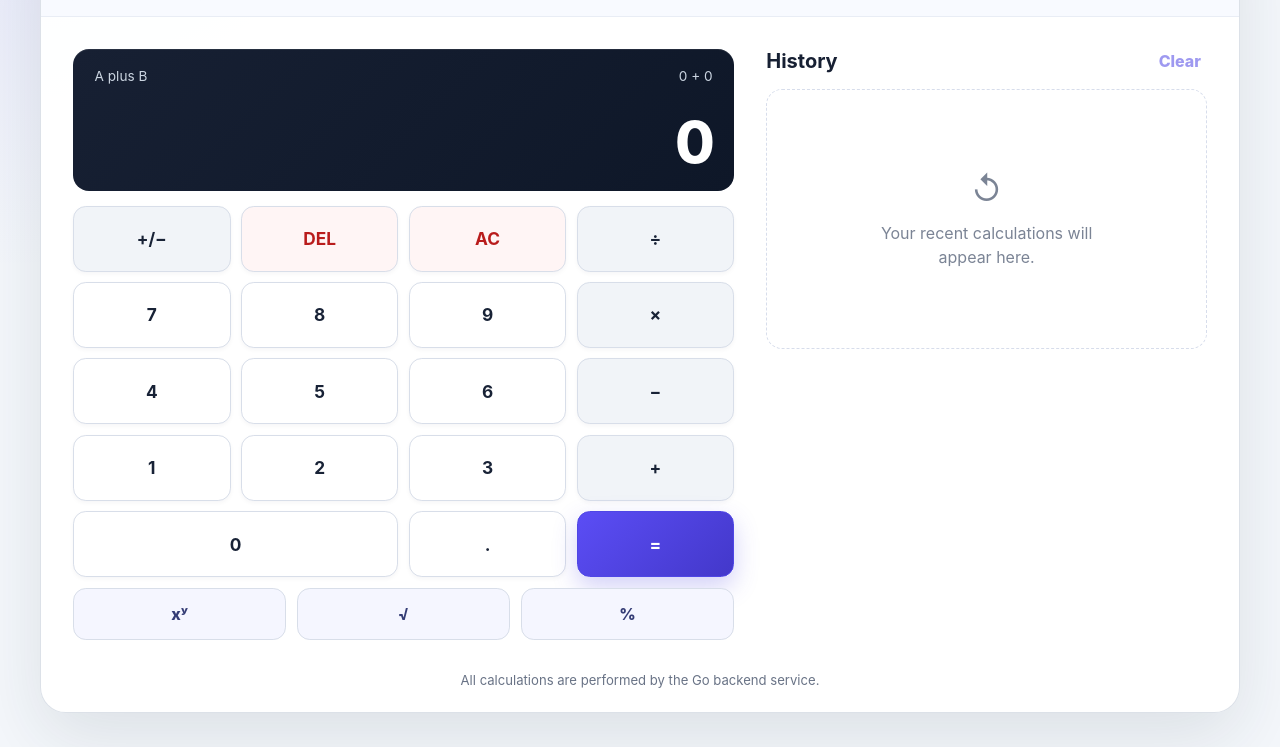
Test: Calculator › shows an API error returned by the backend
(page scrolled)
Click the button "1": (152,468) [73, 435, 230, 501]
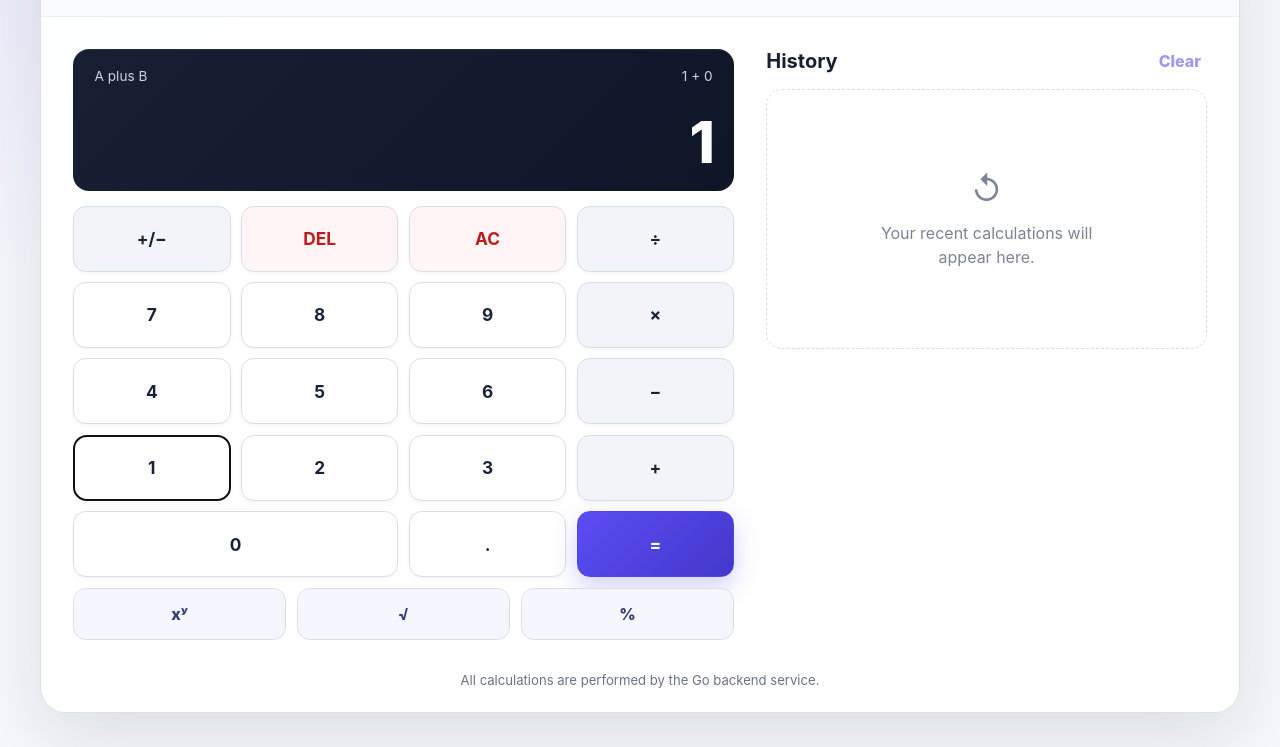
Click the button "0": (236,544) [73, 511, 398, 577]
(page scrolled)
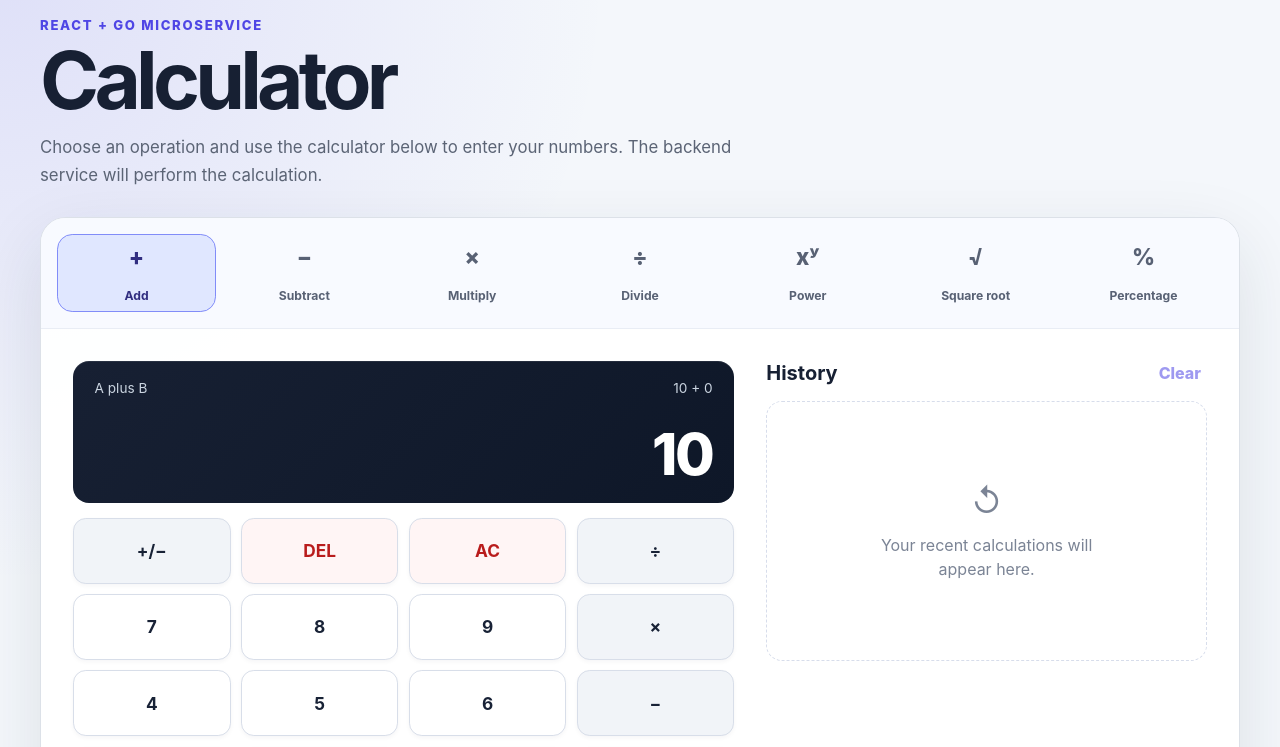
Click the button "÷ Divide": (640,273) [560, 234, 720, 312]
(page scrolled)
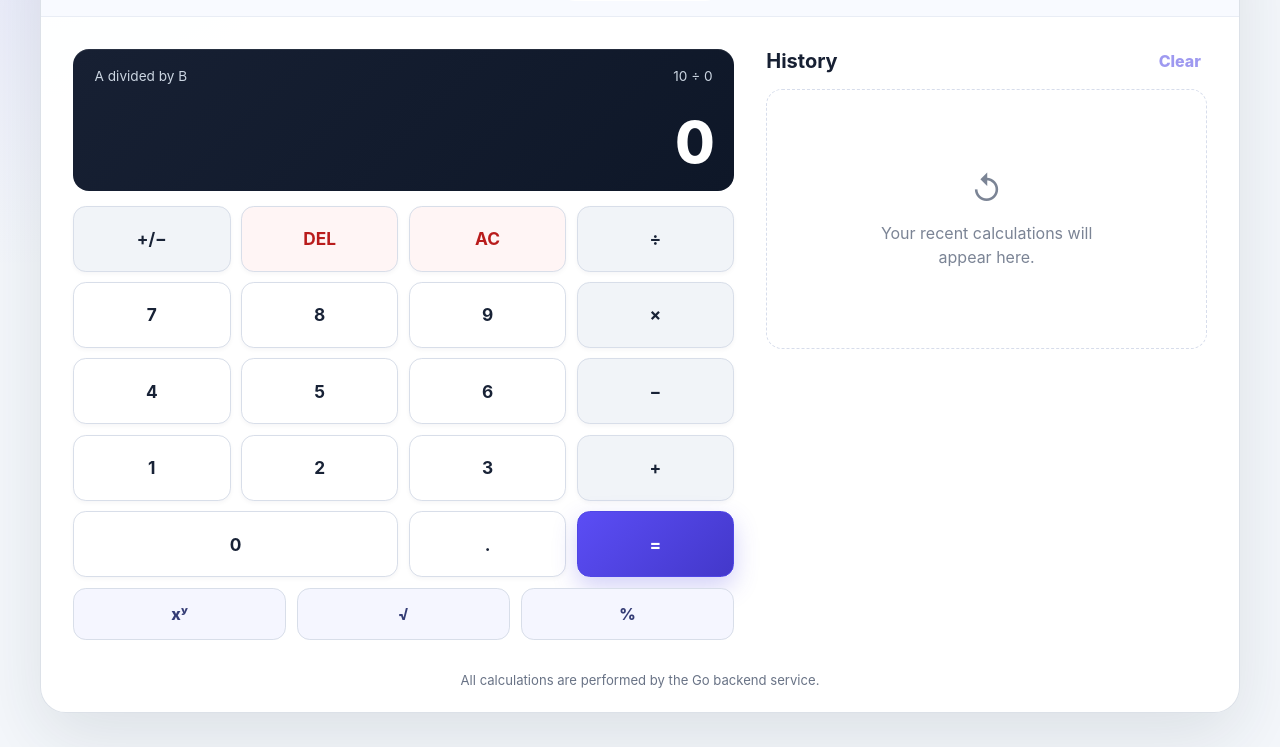
Click the button "0": (236,544) [73, 511, 398, 577]
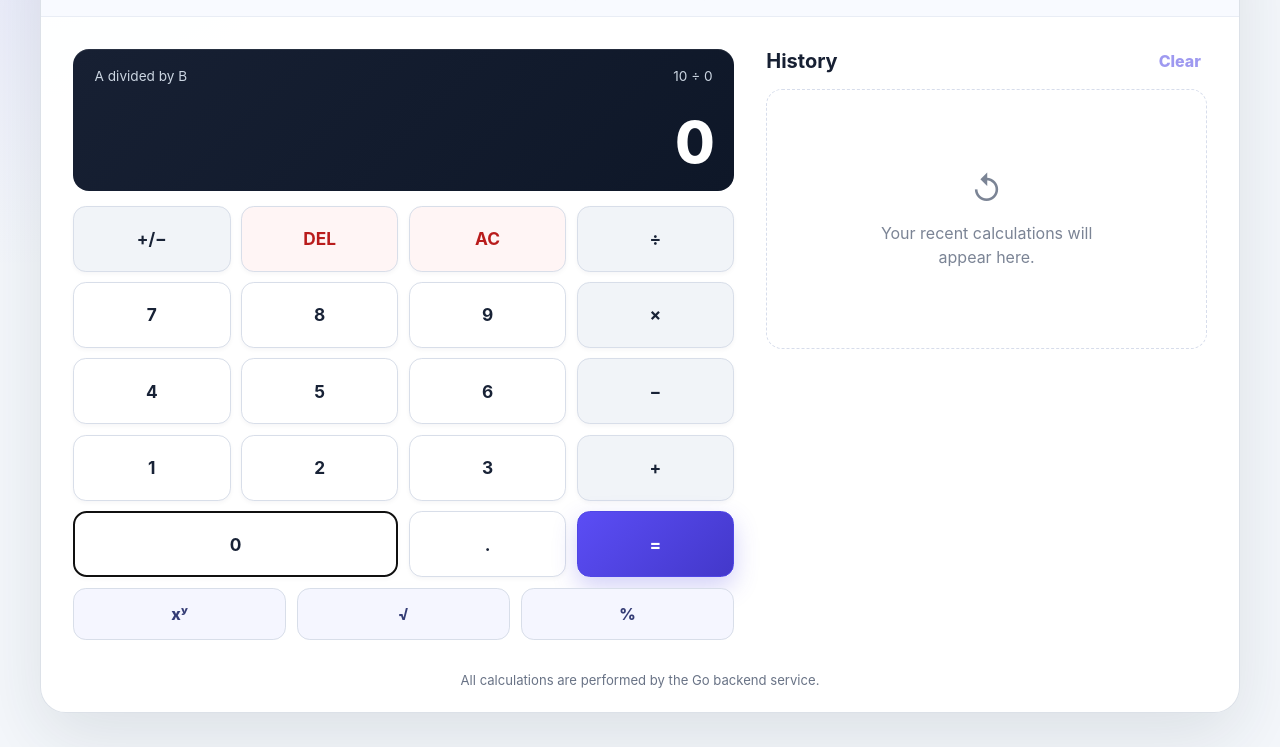
Click the button "=": (655,544) [577, 511, 734, 577]
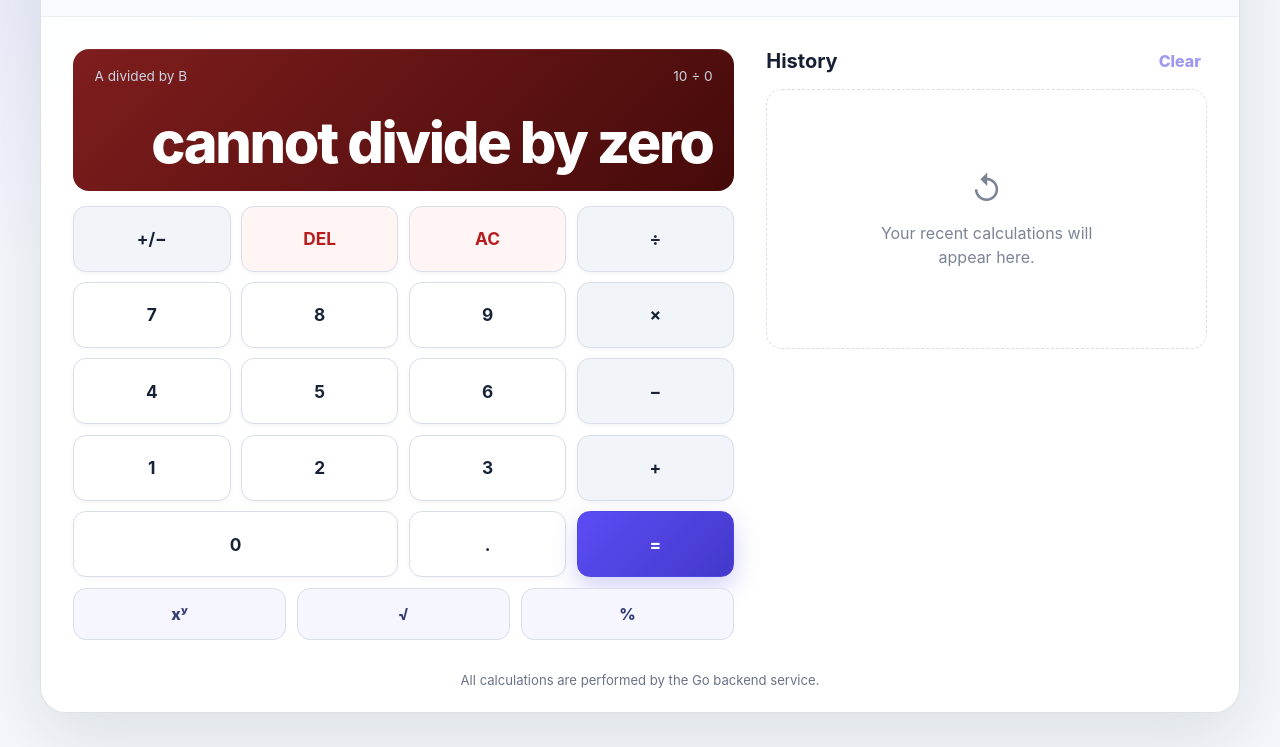
Expected: the text "cannot divide by zero" is shown, [95, 114, 713, 172]
